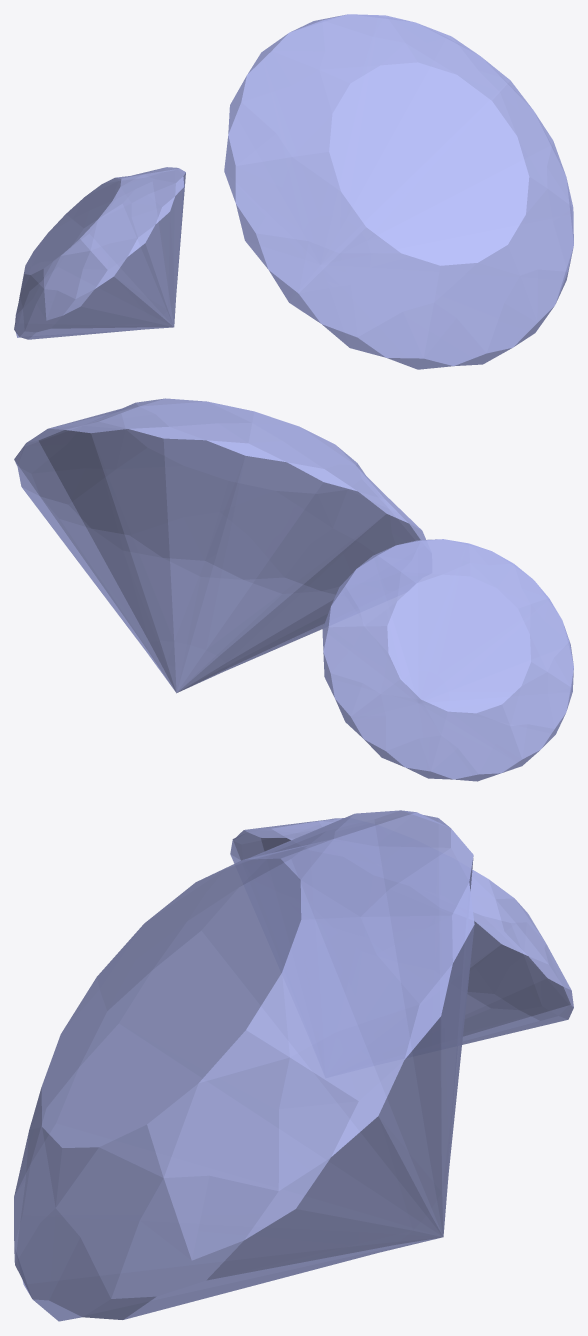
The model's file is Diamond V02.glb.
3 renders of one model, top to bottom at view 1: azimuth 30°, elevation 25°; view 2: azimuth 150°, elevation 25°; view 3: azimuth 270°, elevation 25°, orthographic. The views are drawn at different scales.
Parts seen in each view (by area): view 1: Diamond V02 - 4500; view 2: Diamond V02 - 4500; view 3: Diamond V02 - 4500.
Part boxes in pixels (box(x1,y1,x2,y2)): Diamond V02 - 4500: box(14, 14, 573, 369); Diamond V02 - 4500: box(14, 398, 573, 781); Diamond V02 - 4500: box(14, 810, 573, 1321).
Bounding box in the file's own units: 0.2634 × 0.127 × 0.1558.
Materials: 1 (1 with a texture image).
